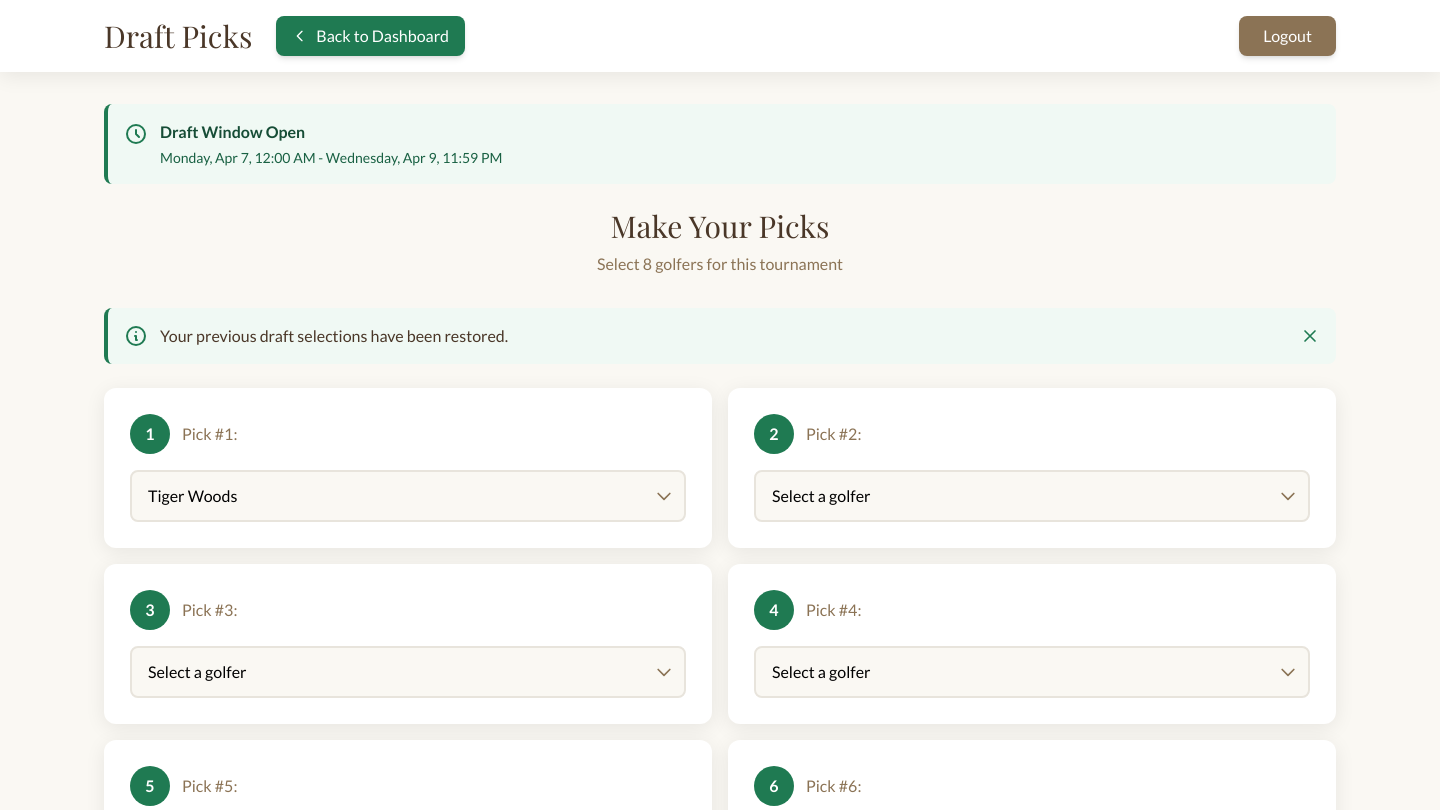
Test: Draft Component › localStorage Persistence › can dismiss draft restored notification
Check: the text "Your previous draft selections have been restored." is shown, box [160, 324, 508, 348]
Click the button named "dismiss notification".
click(1310, 336)  # box [1300, 326, 1320, 346]
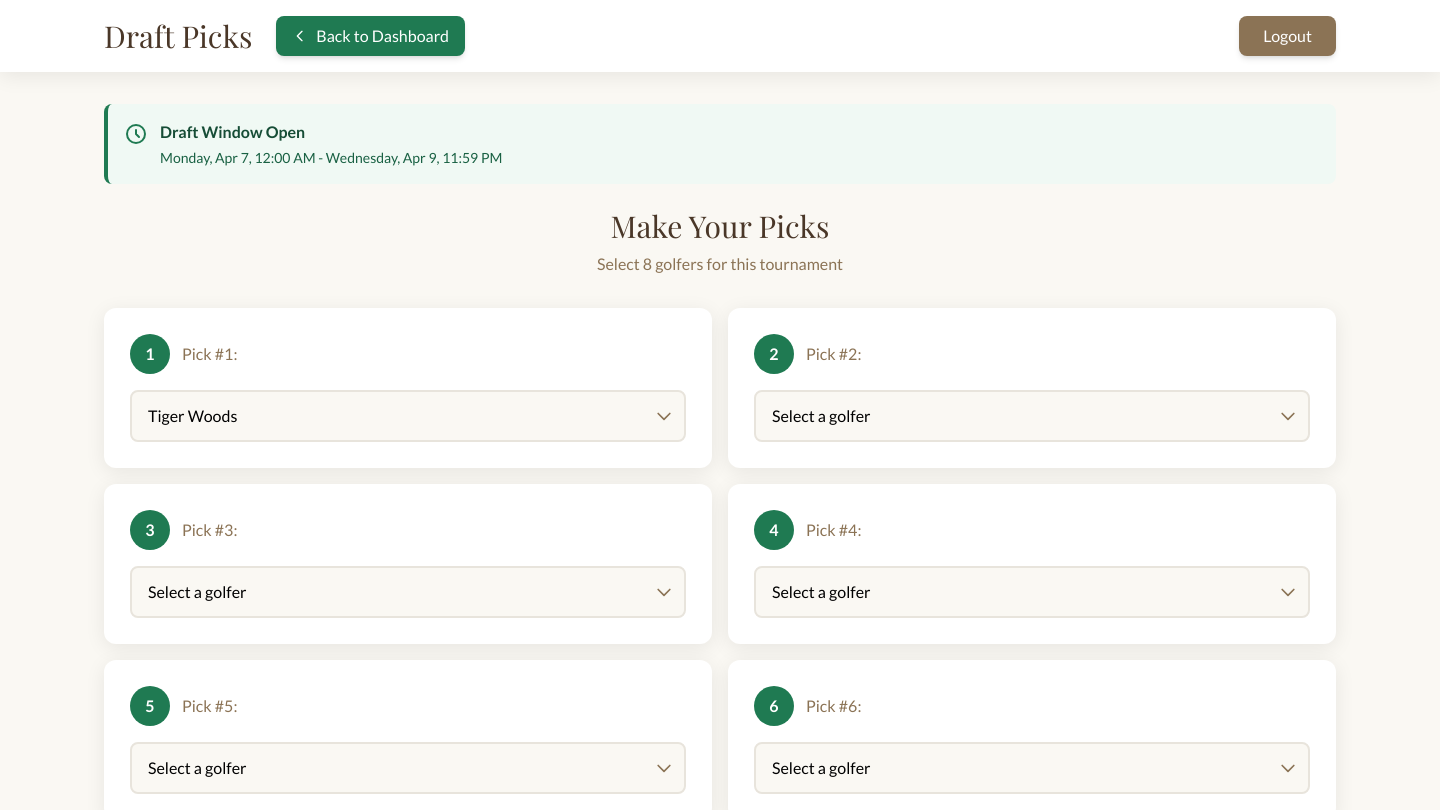
Check: the text "Your previous draft selections have been restored" is gone
